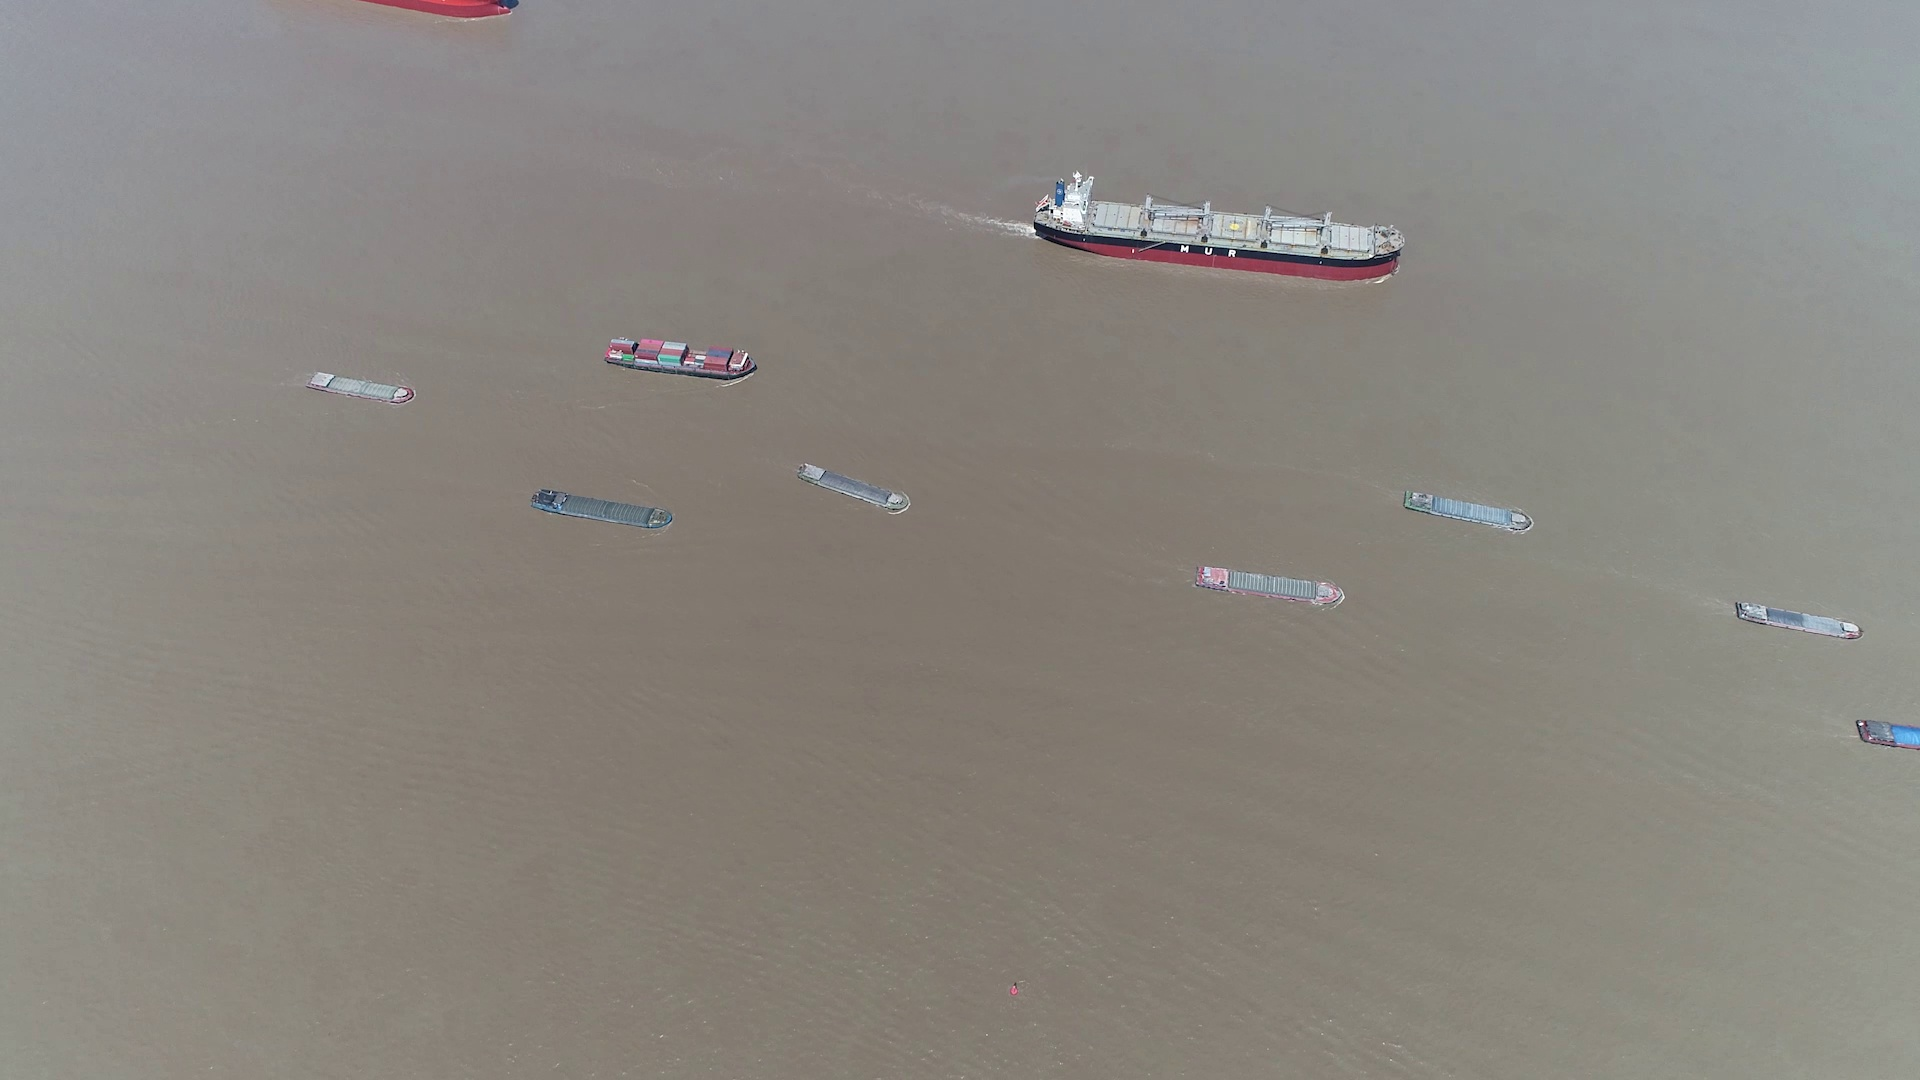ship: (1039, 175, 1404, 280), (605, 335, 757, 378), (1402, 488, 1535, 535), (533, 488, 675, 531), (1195, 566, 1344, 607), (1733, 600, 1866, 644), (799, 465, 913, 516), (306, 371, 415, 404), (1855, 719, 1917, 752)
